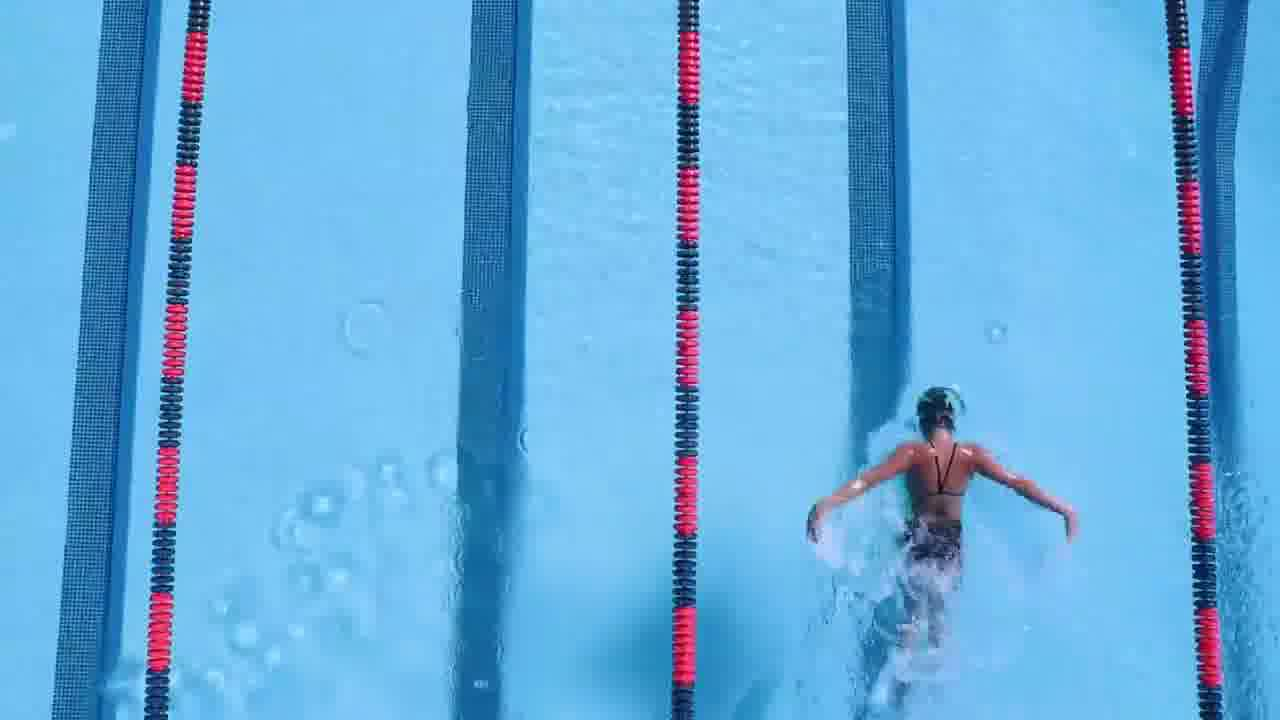swimmer: (813, 375, 1104, 659)
